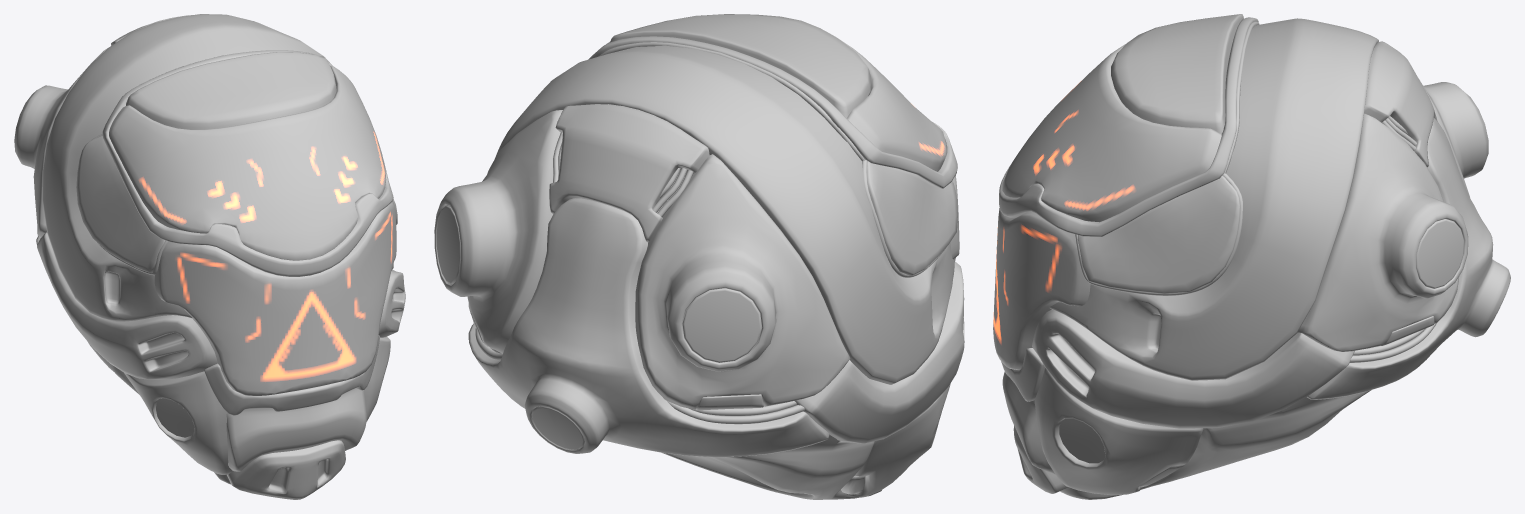
The picture shows the model from 3 angles, left to right: view 1: azimuth 30°, elevation 25°; view 2: azimuth 150°, elevation 25°; view 3: azimuth 270°, elevation 25°; orthographic projection. The views are drawn at different scales.
Visible parts, largest first — view 1: Plane.001, Plane.002, Plane.008, Plane, Plane.007, Plane.015, Plane.004, Plane.010, Plane.009, Plane.005, Plane.011, Plane.003 (+1 smaller); view 2: Plane.011, Plane.008, Plane.012, Plane.013, Plane, Plane.007, Plane.010, Plane.006, Plane.001, Plane.015, Plane.009, NurbsPath.002 (+5 smaller); view 3: Plane.008, Plane.011, Plane.001, Plane.007, Plane.010, Plane, Plane.012, Plane.009, Plane.002, Plane.006, Plane.015, Plane.013 (+7 smaller).
Part boxes in pixels (<box>): Plane.001: <box>109,65,386,260</box>; Plane.002: <box>154,202,396,395</box>; Plane.008: <box>42,14,393,321</box>; Plane: <box>126,52,336,129</box>; Plane.007: <box>37,232,405,379</box>; Plane.015: <box>102,50,393,276</box>; Plane.004: <box>226,388,366,471</box>; Plane.010: <box>76,136,397,272</box>; Plane.009: <box>124,336,390,474</box>; Plane.005: <box>227,440,345,499</box>; Plane.011: <box>14,48,107,237</box>; Plane.003: <box>204,335,379,415</box>; Plane.011: <box>434,110,850,409</box>; Plane.008: <box>495,45,954,384</box>; Plane.012: <box>468,198,829,456</box>; Plane.013: <box>549,104,709,242</box>; Plane: <box>610,14,870,118</box>; Plane.007: <box>794,261,964,443</box>; Plane.010: <box>867,161,957,275</box>; Plane.006: <box>662,435,881,499</box>; Plane.001: <box>607,31,947,171</box>; Plane.015: <box>588,36,957,188</box>; Plane.009: <box>846,384,950,497</box>; NurbsPath.002: <box>475,328,804,424</box>; Plane.008: <box>1049,18,1378,380</box>; Plane.011: <box>1297,79,1488,351</box>; Plane.001: <box>1002,44,1221,222</box>; Plane.007: <box>1032,309,1354,428</box>; Plane.010: <box>1077,117,1240,293</box>; Plane: <box>1111,14,1243,133</box>; Plane.012: <box>1307,118,1510,399</box>; Plane.009: <box>1034,368,1203,495</box>; Plane.002: <box>993,208,1090,369</box>; Plane.006: <box>1060,390,1371,499</box>; Plane.015: <box>999,17,1258,236</box>; Plane.013: <box>1364,41,1437,167</box>.
Bounding box in the file's own units: 1.5 × 1.88 × 1.94.
